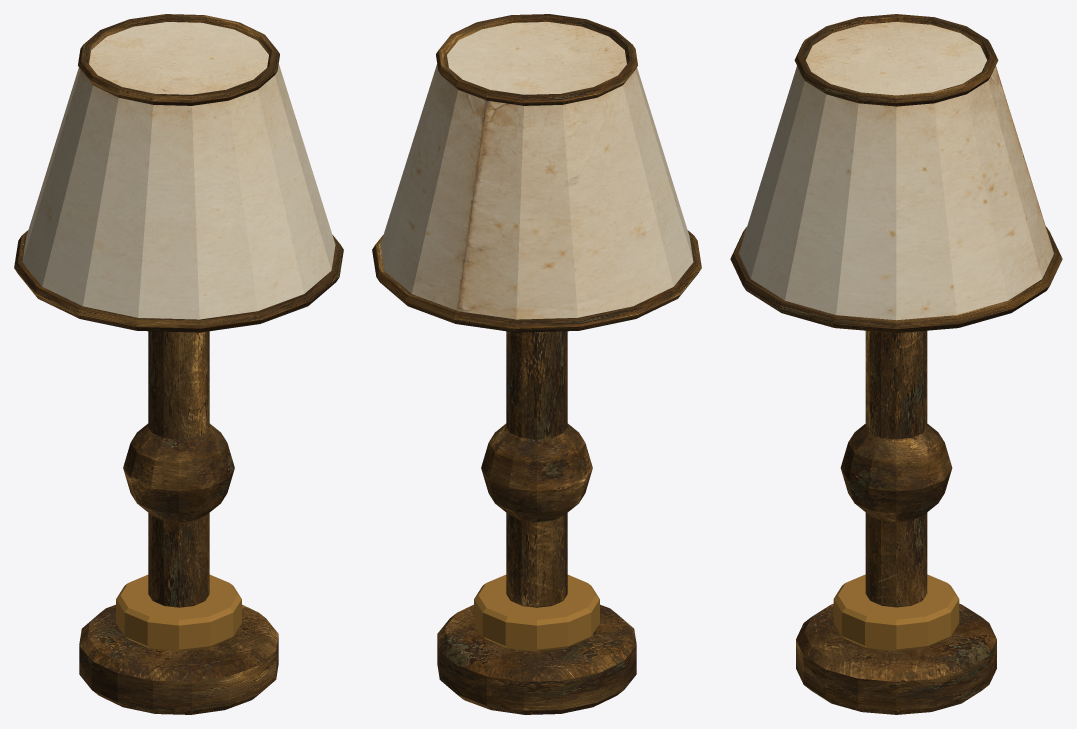
Rendered from bedside_lamp.glb.
3 renders of one model, left to right at view 1: azimuth 30°, elevation 25°; view 2: azimuth 150°, elevation 25°; view 3: azimuth 270°, elevation 25°, orthographic.
Visible parts, largest first — view 1: LampShade, LampBase, LampStem, LampStemOrnament, LampBaseCollar, LampShadeLowerTrim, LampShadeUpperTrim; view 2: LampShade, LampBase, LampStem, LampStemOrnament, LampBaseCollar, LampShadeLowerTrim, LampShadeUpperTrim; view 3: LampShade, LampBase, LampStem, LampStemOrnament, LampBaseCollar, LampShadeLowerTrim, LampShadeUpperTrim.
Boxes of the visible parts, x1,y1,x2,y2 form: LampShade: [22, 22, 335, 319]; LampBase: [79, 604, 278, 714]; LampStem: [148, 331, 209, 607]; LampStemOrnament: [123, 423, 234, 522]; LampBaseCollar: [116, 574, 241, 651]; LampShadeLowerTrim: [14, 230, 343, 332]; LampShadeUpperTrim: [78, 14, 279, 105]; LampShade: [380, 22, 693, 319]; LampBase: [437, 604, 636, 714]; LampStem: [506, 331, 567, 607]; LampStemOrnament: [481, 423, 592, 522]; LampBaseCollar: [474, 574, 599, 651]; LampShadeLowerTrim: [372, 230, 701, 332]; LampShadeUpperTrim: [436, 14, 637, 105]; LampShade: [739, 22, 1053, 320]; LampBase: [796, 603, 996, 714]; LampStem: [865, 330, 927, 607]; LampStemOrnament: [840, 424, 952, 521]; LampBaseCollar: [833, 574, 959, 651]; LampShadeLowerTrim: [730, 227, 1062, 333]; LampShadeUpperTrim: [794, 14, 998, 106].
Size of the model in its own units: 0.238 by 0.49 by 0.238.
Materials: 4 (2 with a texture image).
